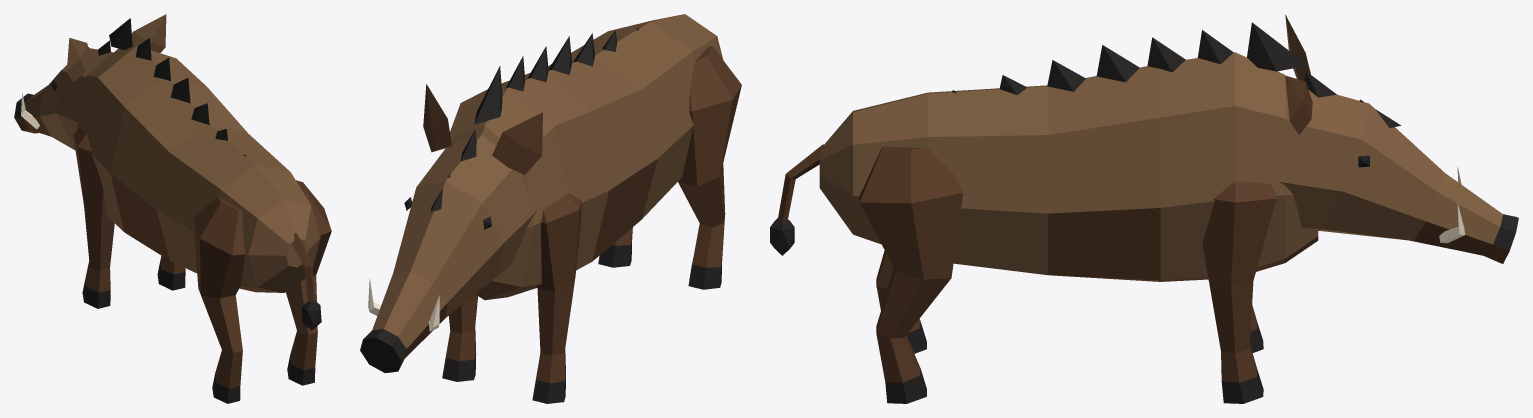
Rendered from boar.glb.
The picture shows the model from 3 angles, left to right: view 1: azimuth 30°, elevation 25°; view 2: azimuth 150°, elevation 25°; view 3: azimuth 270°, elevation 25°; orthographic projection. The views are drawn at different scales.
Parts seen in each view (by area): view 1: Body, Leg_RL, Head, Leg_FL, Leg_RR, Tail, Leg_FR; view 2: Body, Head, Leg_RL, Leg_FL, Leg_FR, Leg_RR; view 3: Body, Head, Leg_RR, Leg_FR, Tail, Leg_RL.
Boxes of the visible parts, bbox=[...] form: Body: bbox=[76, 18, 320, 292]; Leg_RL: bbox=[193, 197, 244, 403]; Head: bbox=[14, 14, 166, 150]; Leg_FL: bbox=[73, 127, 114, 308]; Leg_RR: bbox=[286, 180, 331, 385]; Tail: bbox=[292, 233, 321, 330]; Leg_FR: bbox=[157, 256, 185, 290]; Body: bbox=[450, 14, 723, 300]; Head: bbox=[360, 84, 542, 373]; Leg_RL: bbox=[678, 46, 741, 289]; Leg_FL: bbox=[532, 193, 581, 403]; Leg_FR: bbox=[442, 294, 477, 381]; Leg_RR: bbox=[598, 227, 632, 267]; Body: bbox=[819, 22, 1318, 281]; Head: bbox=[1277, 15, 1518, 263]; Leg_RR: bbox=[859, 146, 963, 403]; Leg_FR: bbox=[1202, 181, 1276, 403]; Tail: bbox=[770, 144, 824, 255]; Leg_RL: bbox=[876, 250, 926, 353].
Bounding box in the file's own units: 0.4481 × 0.9387 × 1.8.
